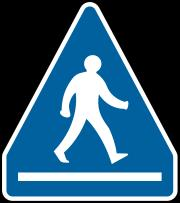Pedestrian Crossing: (7, 19, 172, 194)
